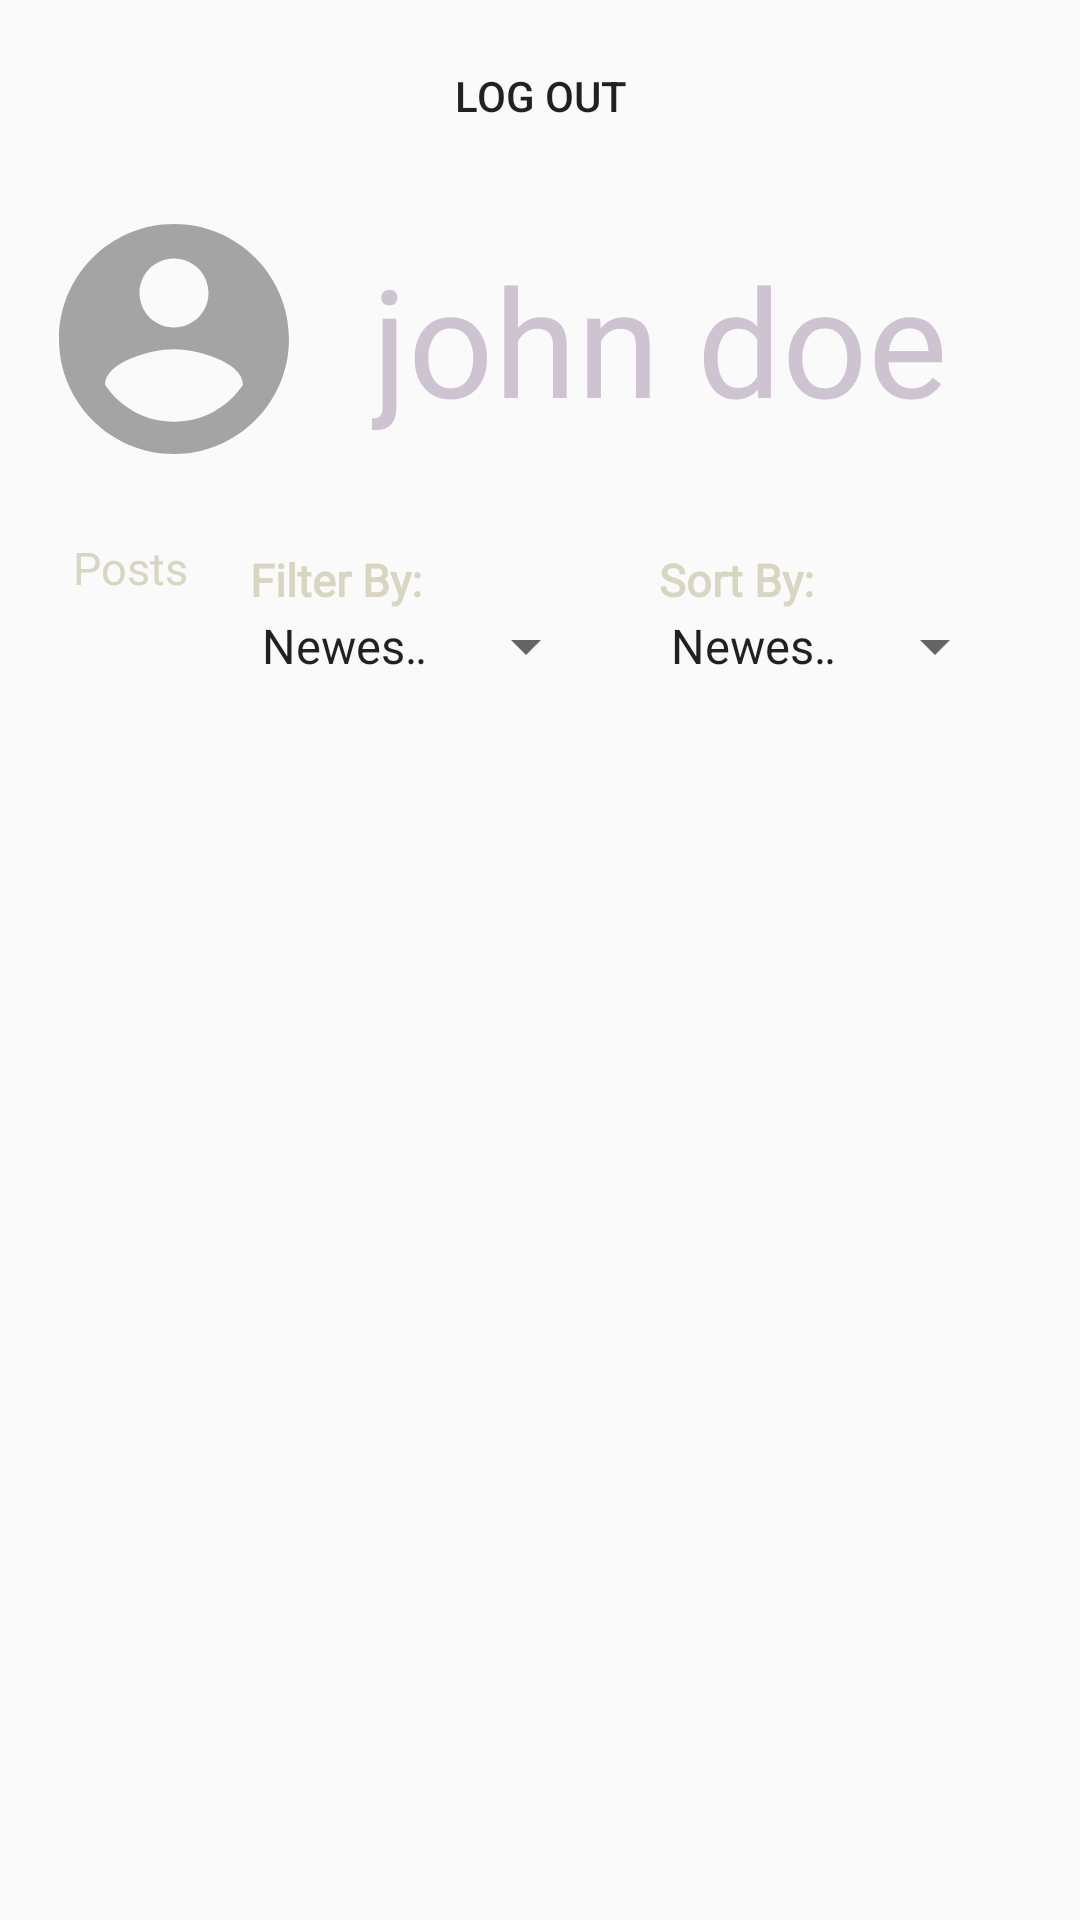

Icons on this 1080 x 1920 Android screen, each with its box as (x1, y1, x2, y2):
account circle: (59, 224, 289, 454)
